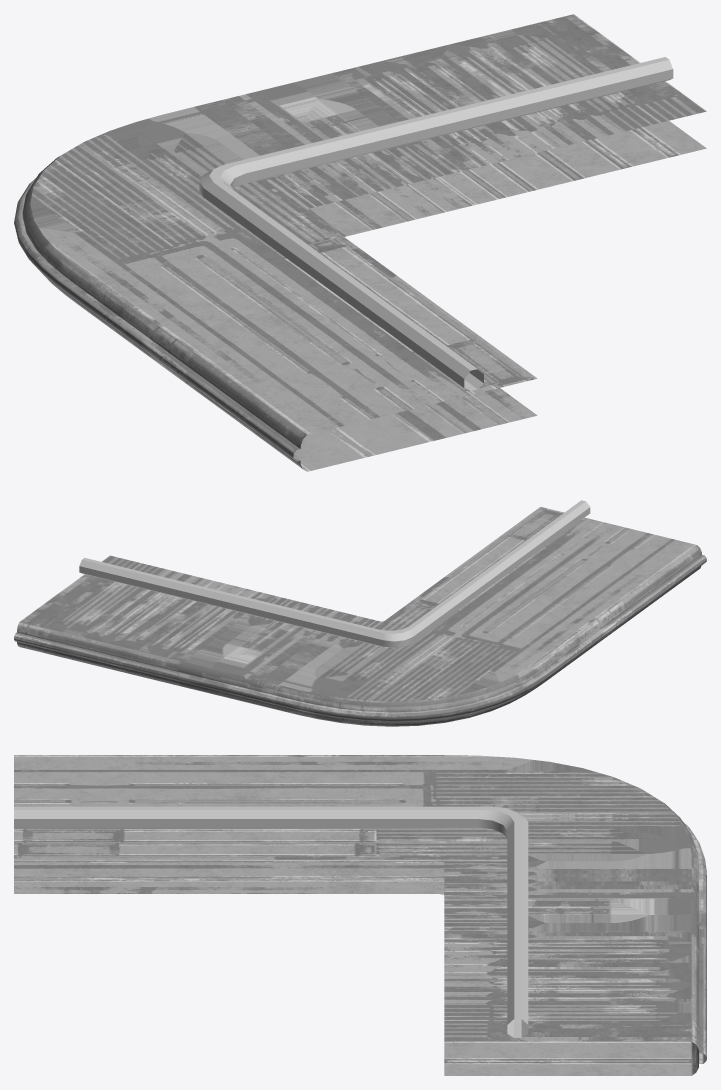
The model's file is SM_Building03_Canopy03R.fbx.
3 views of the same model, one above another, from view 1: azimuth 30°, elevation 25°; view 2: azimuth 150°, elevation 25°; view 3: azimuth 270°, elevation 25° (orthographic). The views are drawn at different scales.
Visible parts, largest first — view 1: SM_Building03_Canopy03R_LOD0; view 2: SM_Building03_Canopy03R_LOD0; view 3: SM_Building03_Canopy03R_LOD0.
Boxes of the visible parts, x1,y1,x2,y2 form: SM_Building03_Canopy03R_LOD0: (14,14,706,471); SM_Building03_Canopy03R_LOD0: (14,500,706,726); SM_Building03_Canopy03R_LOD0: (14,755,706,1075).
Size of the model in its own units: 274 by 274 by 24.84.
